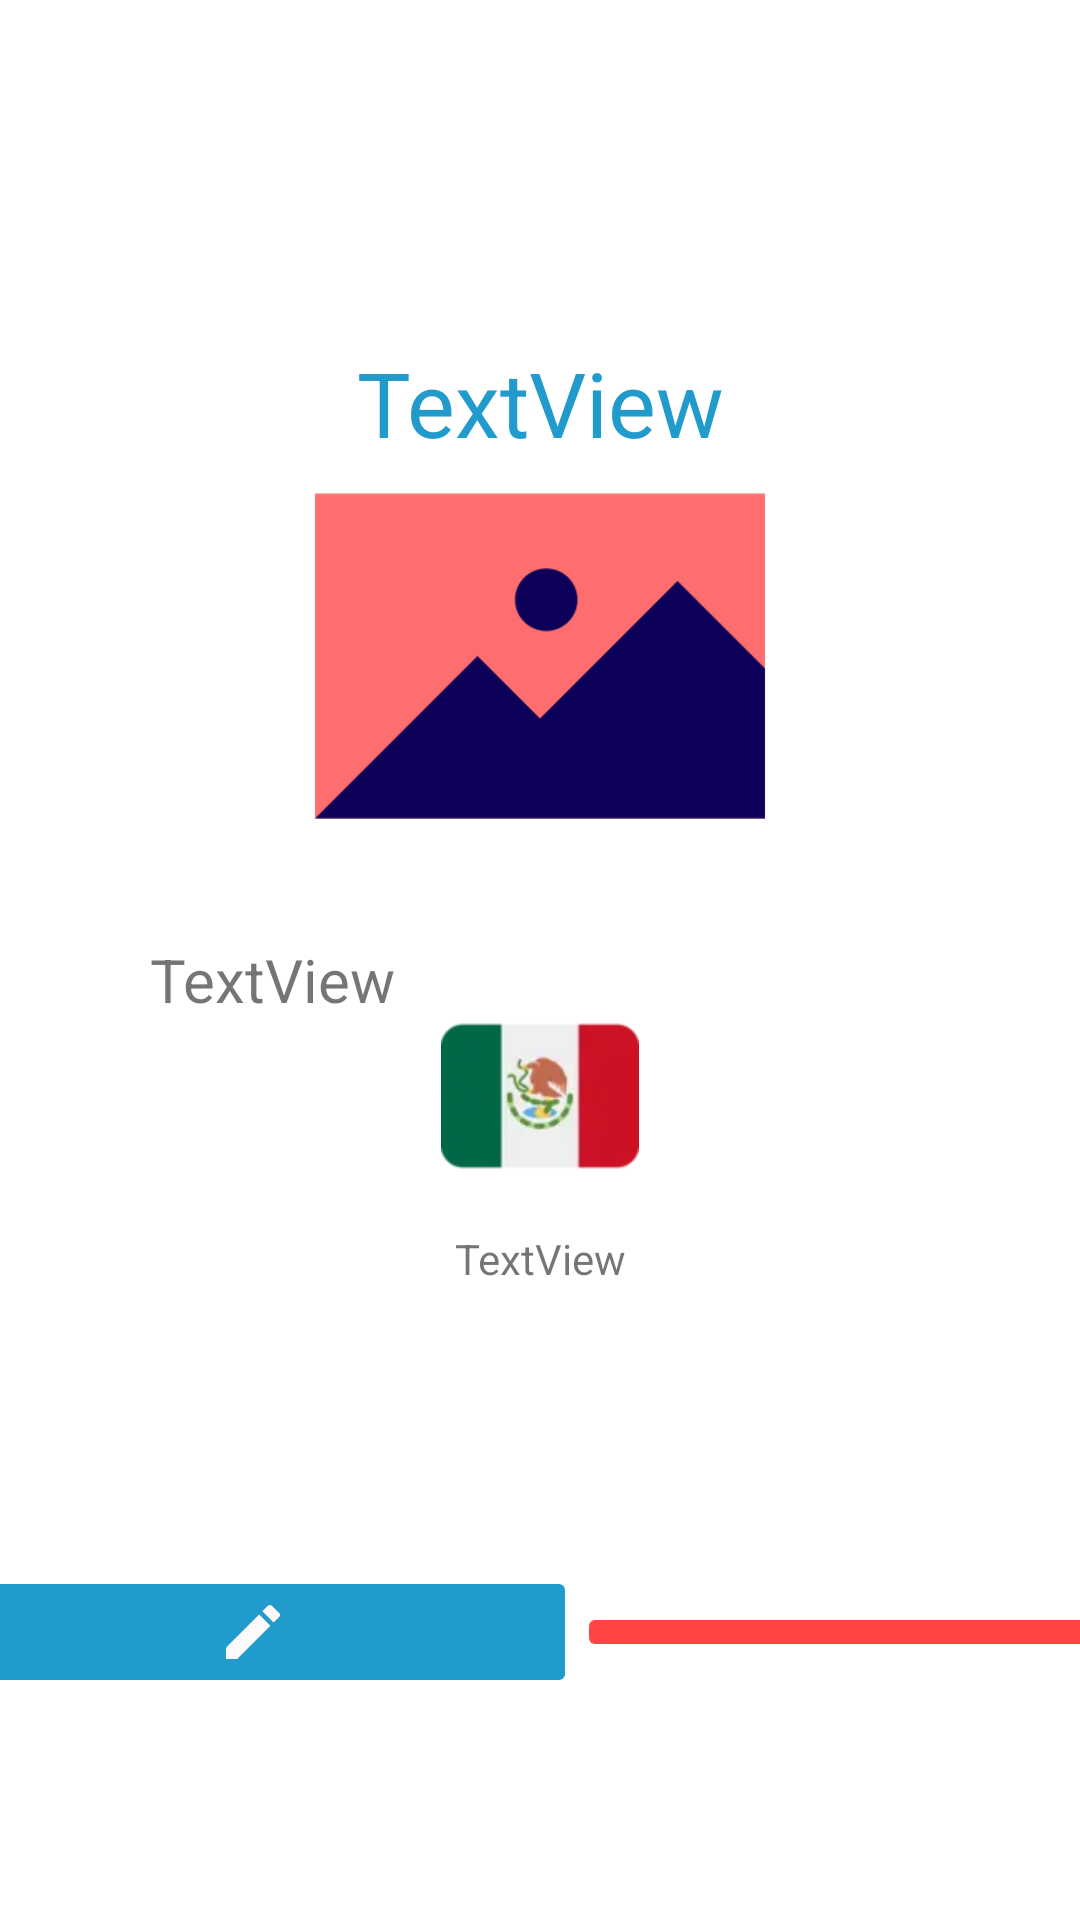

Locate icon controls on the screen. Image size 1080x1920, boxes as box=[x1, y1, x2, y2].
flag mexico: box=[441, 1023, 639, 1169]
